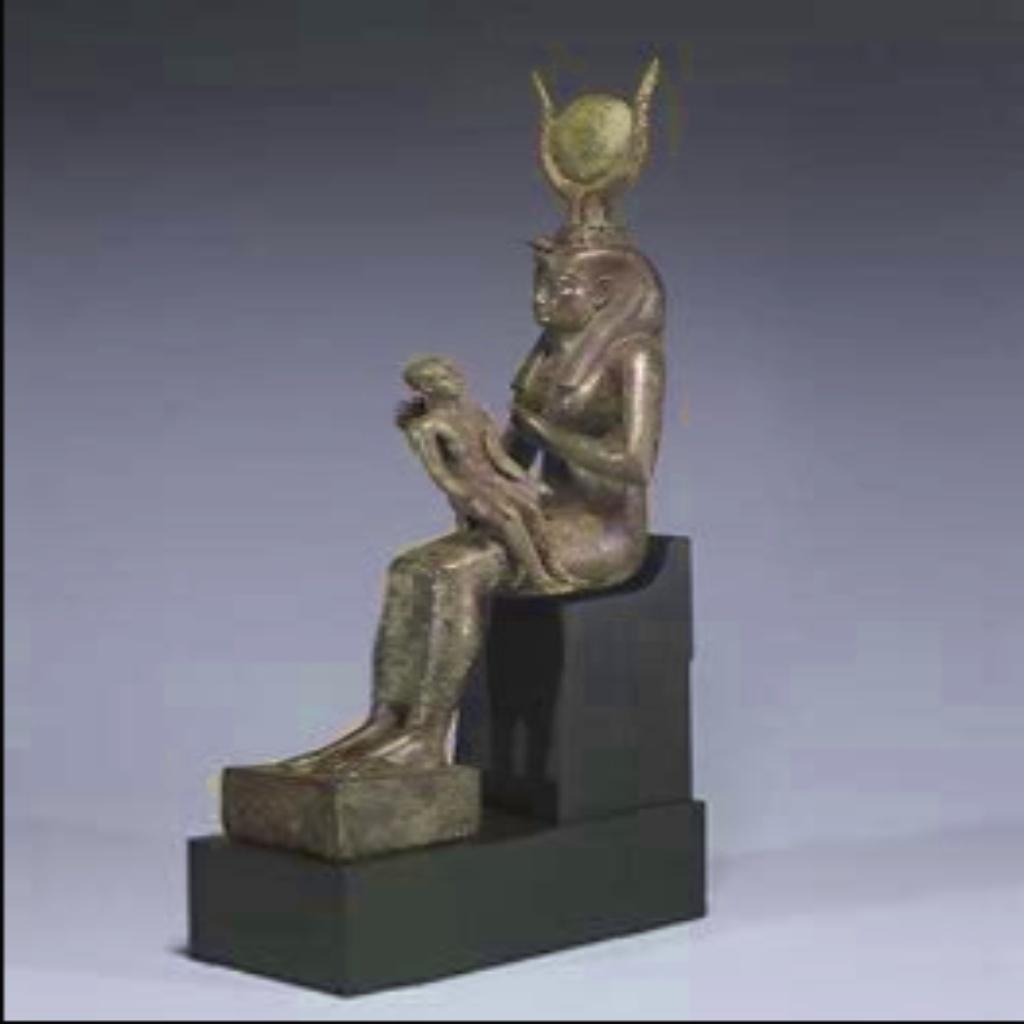Isis with her child: (226, 47, 693, 806)
